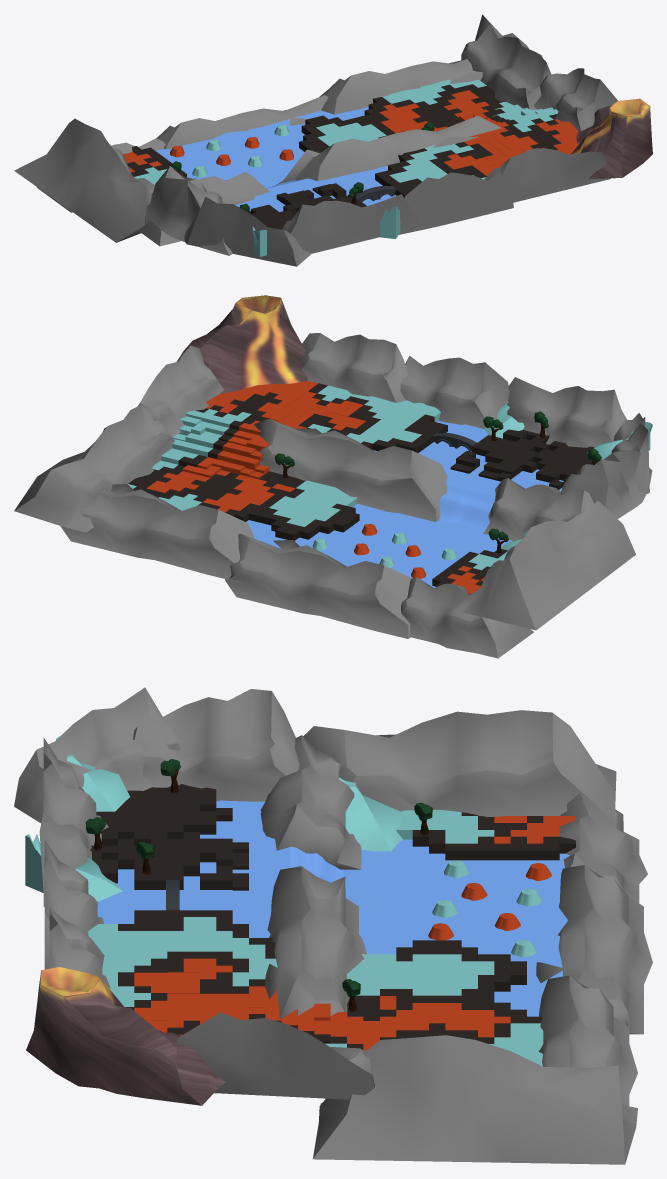
The model's file is Environment.8.FBX.
3 views of the same model, one above another, from view 1: azimuth 30°, elevation 25°; view 2: azimuth 150°, elevation 25°; view 3: azimuth 270°, elevation 25° (orthographic). The views are drawn at different scales.
Visible parts, largest first — view 1: Neutral Ground, MountainR3, Water, MountainC, Lava Ground, MountainL2, Frozen Ground, MountainTR, MountainTC, Volcano, MountainCornerR, MountainTL (+8 smaller); view 2: Neutral Ground, MountainR3, MountainL4, MountainC, Water, MountainL3, MountainL2, Lava Ground, Frozen Ground, Volcano, MountainR4, MountainTR (+8 smaller); view 3: MountainL2, Neutral Ground, Water, MountainR3, Volcano, Frozen Ground, MountainR1, Lava Ground, MountainL1, MountainC, MountainL4, MountainR2 (+8 smaller).
Part boxes in pixels (x1,y1,x2,y2): Neutral Ground: (127,84,561,229); MountainR3: (14,118,154,242); Water: (156,107,396,211); MountainC: (276,115,501,184); Lava Ground: (123,90,578,175); MountainL2: (449,14,551,110); Frozen Ground: (134,79,558,184); MountainTR: (282,194,418,253); MountainTC: (399,171,513,234); Volcano: (571,98,652,178); MountainCornerR: (184,196,311,266); MountainTL: (484,148,610,202); Neutral Ground: (128,383,596,586); MountainR3: (461,500,635,630); MountainL4: (225,533,411,638); MountainC: (253,418,447,521); Water: (246,420,563,587); MountainL3: (60,484,254,583); MountainL2: (14,404,174,532); Lava Ground: (146,380,484,594); Frozen Ground: (128,385,507,570); Volcano: (177,295,307,393); MountainR4: (401,577,533,658); MountainTR: (507,377,626,447); MountainL2: (313,1035,637,1164); Neutral Ground: (90,784,575,1049); Water: (97,800,569,1016); MountainR3: (303,710,616,827); Volcano: (26,967,225,1105); Frozen Ground: (88,810,543,1066); MountainR1: (133,689,299,801); Lava Ground: (134,816,575,1051); MountainL1: (176,1012,374,1099); MountainC: (265,866,366,1018); MountainL4: (536,865,652,1034); MountainR2: (260,735,361,869).
Size of the model in its own units: 836 by 180 by 586.
